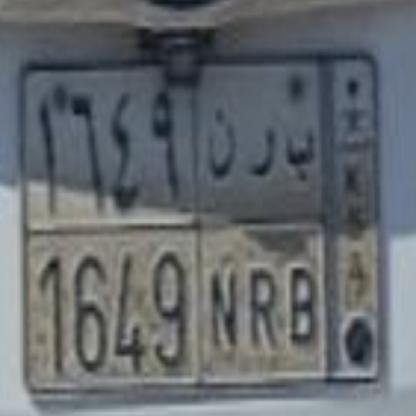english: (23, 222, 326, 368)
